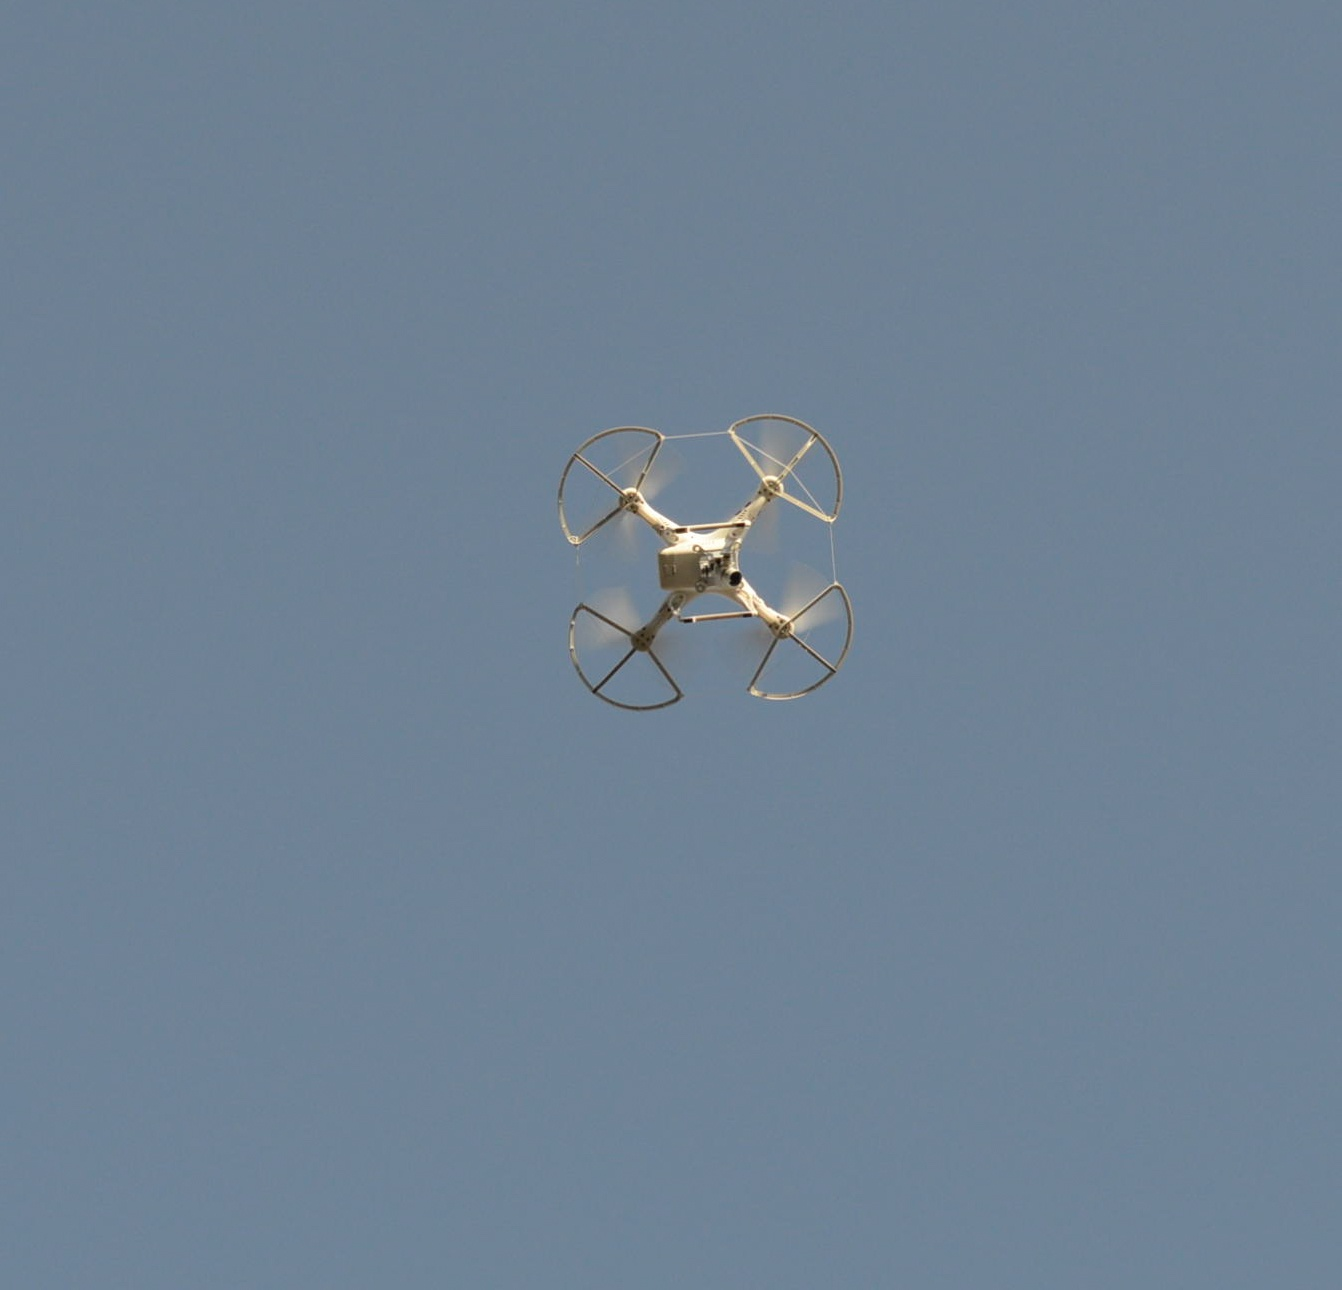DJI: (552, 413, 857, 713)
